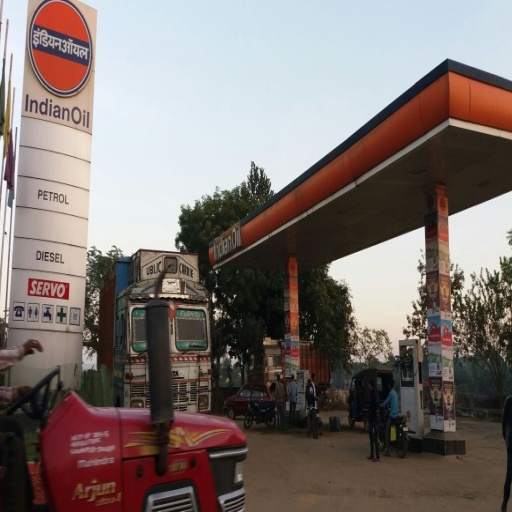roof: (209, 57, 508, 275)
